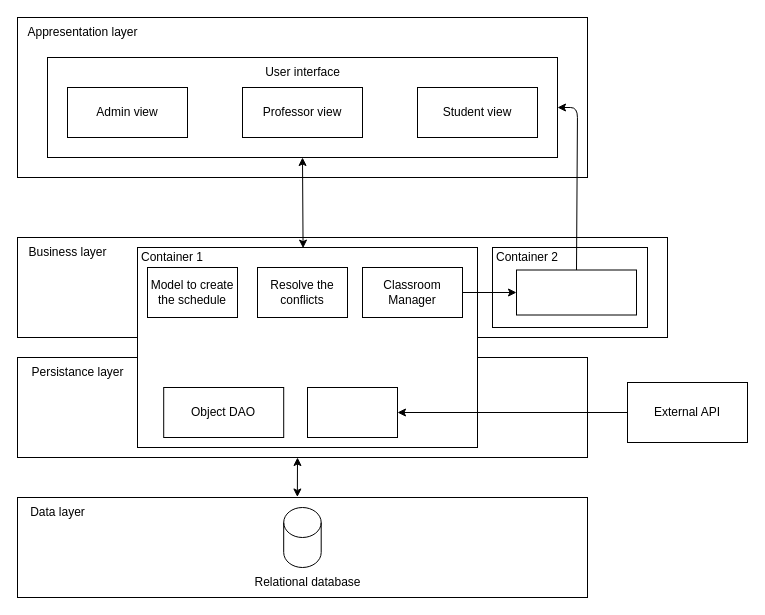
This 765x615 diagram has some shape labels left out. Here are the shapes that lost their labels. From the top down, the centre of each, then its label:
At point (576, 292): "Broker".
At point (352, 412): "Data Parser".
